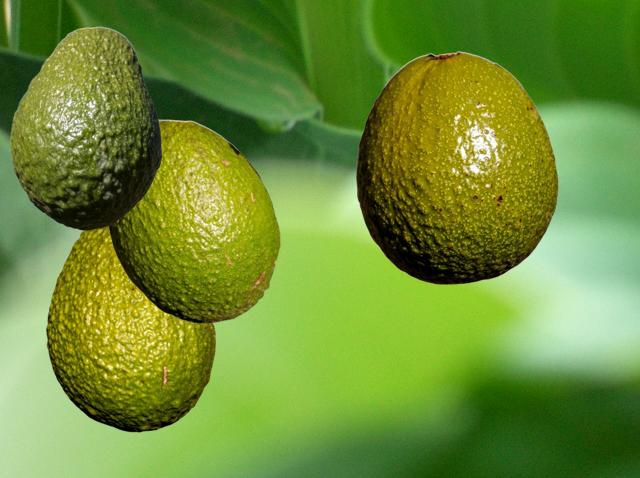avocado: (356, 51, 557, 283), (108, 119, 279, 322), (46, 228, 214, 431), (10, 26, 160, 229)
